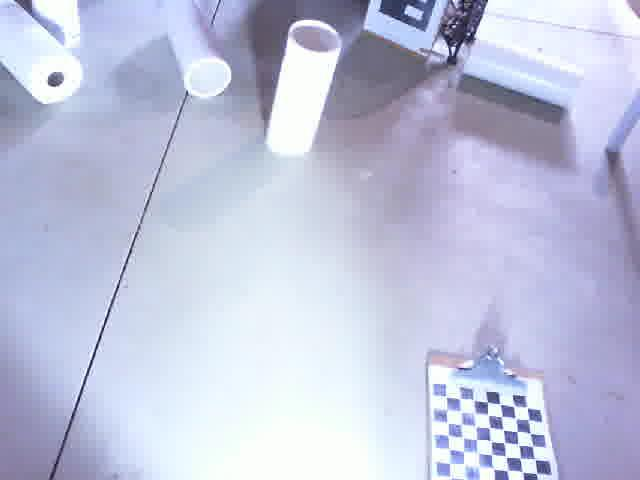coral: (262, 14, 347, 161), (463, 33, 590, 111), (152, 0, 233, 100)
